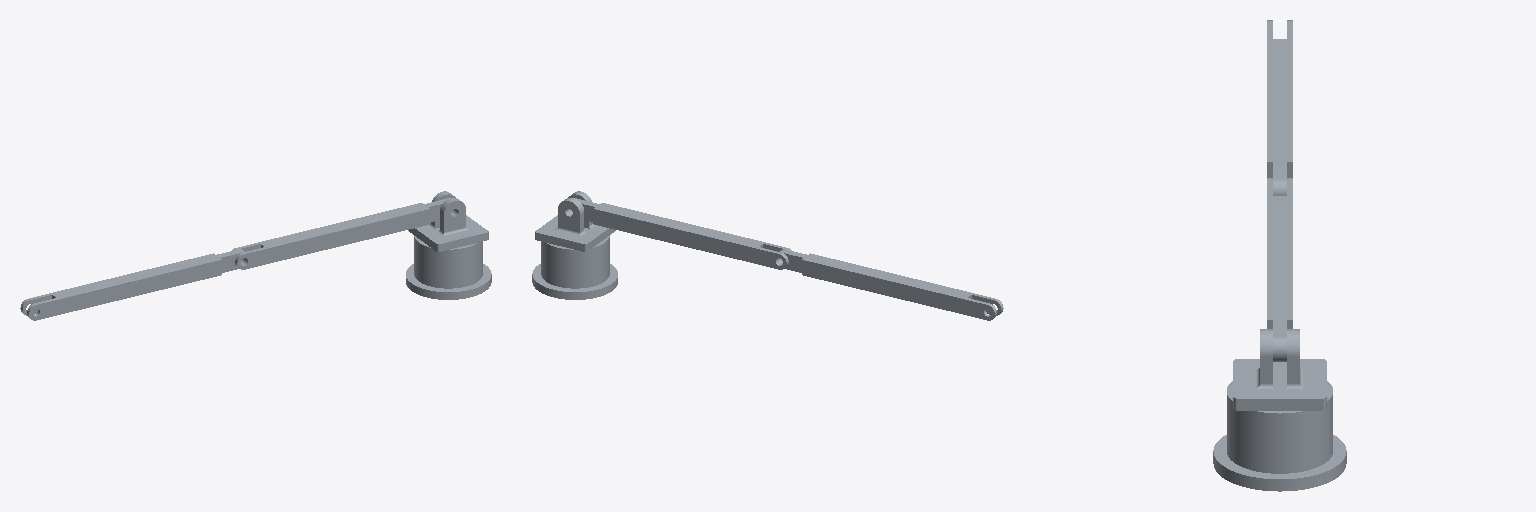
The robot description file, URDF, robot "Robot":
<?xml version="1.0" ?>
<robot name="Robot">
  <!--Generated by RobotCAD, a ROS Workbench for FreeCAD (https://github.com/drfenixion/freecad.robotcad)-->
  <link name="l_Base_link001">
    <visual>
      <!--Base_link001/Base_link001.-->
      <origin rpy="0 0 0" xyz="0.10 0.10 0.10"/>
      <geometry>
        <mesh filename="package://robot_3dof/meshes/unnamed_base_link_dabvl7.dae"/>
      </geometry>
    </visual>
    <inertial>
      <mass value="0.8927620923338794"/>
      <origin rpy="0 0 0" xyz="0.1 0.1 0.127945"/>
      <inertia ixx="0.000695468727359832" ixy="5.460941560537486e-20" ixz="7.16853779984661e-20" iyy="0.0006954687273598237" iyz="1.4405122220039796e-20" izz="0.0008079656005749738"/>
    </inertial>
  </link>
  <link name="l_Link_004">
    <visual>
      <!--Link_004/Link_002.-->
      <origin rpy="0 0 0" xyz="0.0 0.0 -0.01"/>
      <geometry>
        <mesh filename="package://robot_3dof/meshes/unnamed_link_1_hibykz.dae"/>
      </geometry>
    </visual>
    <inertial>
      <mass value="0.18582946919401871"/>
      <origin rpy="0 0 0" xyz="0.0 0.0 0.00187359"/>
      <inertia ixx="8.833631389763842e-05" ixy="-1.7543718948538604e-12" ixz="1.3607460298830032e-12" iyy="8.640163361952176e-05" iyz="4.436450979034198e-18" izz="0.00011778880512837618"/>
    </inertial>
  </link>
  <link name="l_Link_005">
    <visual>
      <!--Link_005/Link_003.-->
      <origin rpy="1.5707963267948963 0 0" xyz="0.14 0.0 0.005"/>
      <geometry>
        <mesh filename="package://robot_3dof/meshes/unnamed_link_2_gw5afc.dae"/>
      </geometry>
    </visual>
    <inertial>
      <mass value="0.2742411500823461"/>
      <origin rpy="1.5707963267948963 0 0" xyz="0.14 0.0 0.005"/>
      <inertia ixx="1.8326924685514177e-05" ixy="1.0058283805847166e-20" ixz="-2.6154096544054464e-21" iyy="0.0015695776449461912" iyz="1.7352256790993985e-21" izz="0.0015695334662994996"/>
    </inertial>
  </link>
  <link name="l_Link_006">
    <visual>
      <!--Link_006/Link_004.-->
      <origin rpy="1.5707963267948963 0 0" xyz="0.14 0.0 0.005"/>
      <geometry>
        <mesh filename="package://robot_3dof/meshes/unnamed_link_3_bdrbm1.dae"/>
      </geometry>
    </visual>
    <inertial>
      <mass value="0.2742411500823461"/>
      <origin rpy="1.5707963267948963 0 0" xyz="0.14 0.0 0.005"/>
      <inertia ixx="1.8326924685514177e-05" ixy="1.0058283805847166e-20" ixz="-2.6154096544054464e-21" iyy="0.0015695776449461912" iyz="1.7352256790993985e-21" izz="0.0015695334662994996"/>
    </inertial>
  </link>
  <joint name="l_Base_link001__to__l_Link_004" type="continuous">
    <parent link="l_Base_link001"/>
    <child link="l_Link_004"/>
    <origin rpy="0 0 3.141592653589793" xyz="0.1 0.1 0.17"/>
    <axis xyz="0 0 1"/>
  </joint>
  <joint name="l_Link_004__to__l_Link_005" type="continuous">
    <parent link="l_Link_004"/>
    <child link="l_Link_005"/>
    <origin rpy="-1.5707963267948963 0 0" xyz="0.0 -0.005 0.0249785"/>
    <axis xyz="0 0 1"/>
  </joint>
  <joint name="l_Link_005__to__l_Link_006" type="continuous">
    <parent link="l_Link_005"/>
    <child link="l_Link_006"/>
    <origin rpy="0 0 0" xyz="0.28 0.0 0.0"/>
    <axis xyz="0 0 1"/>
  </joint>
</robot>

--- What the picture shows (computed from the rendered views, not written in the file) ---
3 views of the same robot in one strip: view 1: azimuth 30°, elevation 25°; view 2: azimuth 150°, elevation 25°; view 3: azimuth 270°, elevation 25° (orthographic).
Model Robot with 4 links and 3 joints (3 continuous), rooted at l_Base_link001, posed every joint at zero.
Visible links, largest first — view 1: l_Link_006, l_Link_005, l_Base_link001, l_Link_004; view 2: l_Link_006, l_Link_005, l_Base_link001, l_Link_004; view 3: l_Base_link001, l_Link_004, l_Link_005, l_Link_006.
Link boxes in pixels (left/top/right/bottom): l_Link_006: left=20, top=249, right=245, bottom=320; l_Link_005: left=232, top=198, right=453, bottom=269; l_Base_link001: left=406, top=236, right=491, bottom=299; l_Link_004: left=408, top=191, right=488, bottom=251; l_Link_006: left=778, top=249, right=1003, bottom=320; l_Link_005: left=570, top=198, right=791, bottom=269; l_Base_link001: left=532, top=236, right=617, bottom=299; l_Link_004: left=535, top=191, right=615, bottom=251; l_Base_link001: left=1213, top=376, right=1346, bottom=491; l_Link_004: left=1233, top=329, right=1326, bottom=410; l_Link_005: left=1267, top=178, right=1292, bottom=361; l_Link_006: left=1267, top=20, right=1292, bottom=195.
Size in the robot's own frame: 0.62 by 0.1 by 0.11 metres.
4 mesh visuals loaded from 4 distinct referenced files (4 Collada DAE).